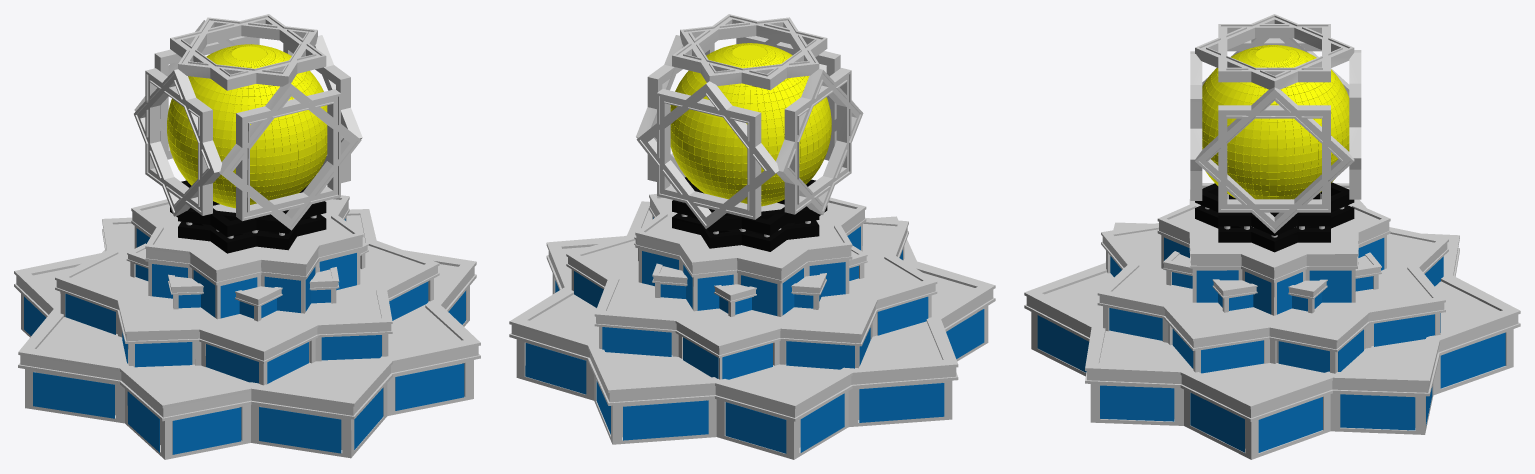
File: bagtKoshgi.FBX
3 renders of one model, left to right at view 1: azimuth 30°, elevation 25°; view 2: azimuth 150°, elevation 25°; view 3: azimuth 270°, elevation 25°, orthographic.
Parts seen in each view (by area): view 1: Star004, Star005, bagt koshgi, Star007, Sphere001, Box012, Box011, Box014, Box015, Star006, Box009, Box013; view 2: Star004, bagt koshgi, Star005, Star007, Sphere001, Box013, Box011, Box014, Box015, Star006, Box009, Box012; view 3: Star004, bagt koshgi, Star005, Star007, Sphere001, Box009, Box014, Box015, Star006, Box013, Box012, Box011.
Boxes of the visible parts, box(x1,y1,x2,y2) form: Star004: box(14, 250, 480, 459); Star005: box(55, 209, 439, 385); bagt koshgi: box(24, 281, 465, 454); Star007: box(131, 195, 363, 319); Sphere001: box(167, 44, 327, 208); Box012: box(219, 82, 361, 230); Box011: box(134, 68, 221, 216); Box014: box(170, 14, 326, 90); Box015: box(170, 180, 326, 253); Star006: box(126, 242, 368, 321); Box009: box(283, 35, 362, 183); Box013: box(134, 20, 259, 159); Star004: box(509, 216, 995, 459); bagt koshgi: box(525, 250, 984, 453); Star005: box(566, 201, 937, 379); Star007: box(635, 194, 866, 316); Sphere001: box(670, 43, 831, 206); Box013: box(636, 81, 778, 228); Box011: box(776, 68, 863, 214); Box014: box(672, 14, 827, 90); Box015: box(672, 177, 827, 251); Star006: box(634, 237, 867, 316); Box009: box(636, 35, 714, 181); Box012: box(736, 30, 855, 160); Star004: box(1024, 222, 1520, 459); bagt koshgi: box(1037, 256, 1505, 452); Star005: box(1097, 199, 1448, 373); Star007: box(1157, 183, 1390, 315); Sphere001: box(1202, 45, 1349, 199); Box009: box(1195, 87, 1354, 233); Box014: box(1195, 14, 1354, 89); Box015: box(1195, 182, 1354, 252); Star006: box(1163, 251, 1381, 313); Box013: box(1349, 50, 1361, 199); Box012: box(1190, 51, 1202, 200); Box011: box(1202, 38, 1349, 97).
Bounding box in the file's own units: 8574 × 5932 × 8573.
